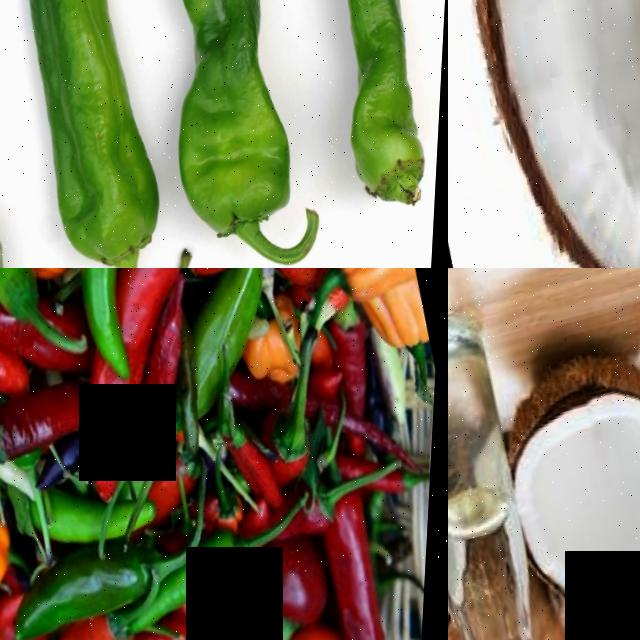chilli: (88, 0, 332, 252), (202, 0, 448, 237), (0, 0, 207, 268), (5, 533, 160, 640), (121, 526, 266, 633), (320, 518, 408, 640), (0, 383, 94, 467), (225, 401, 293, 516)
coconut: (448, 0, 640, 268), (487, 340, 640, 639)
